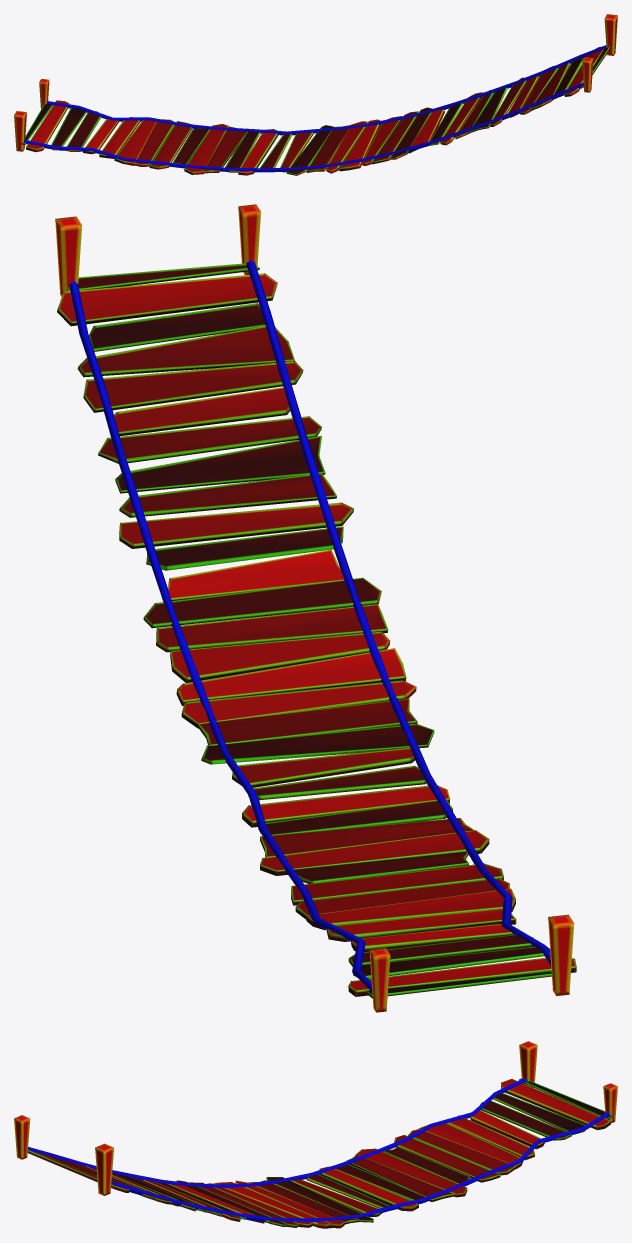
The model's file is SM_Bridge_01.FBX.
3 views of the same model, one above another, from view 1: azimuth 30°, elevation 25°; view 2: azimuth 150°, elevation 25°; view 3: azimuth 270°, elevation 25° (orthographic). The views are drawn at different scales.
Visible parts, largest first — view 1: SM_Bridge_01; view 2: SM_Bridge_01; view 3: SM_Bridge_01.
Boxes of the visible parts, <box> form: SM_Bridge_01: <box>14,14,617,175</box>; SM_Bridge_01: <box>55,204,576,1012</box>; SM_Bridge_01: <box>14,1041,617,1228</box>.
Bounding box in the file's own units: 1742 × 1715 × 608.
